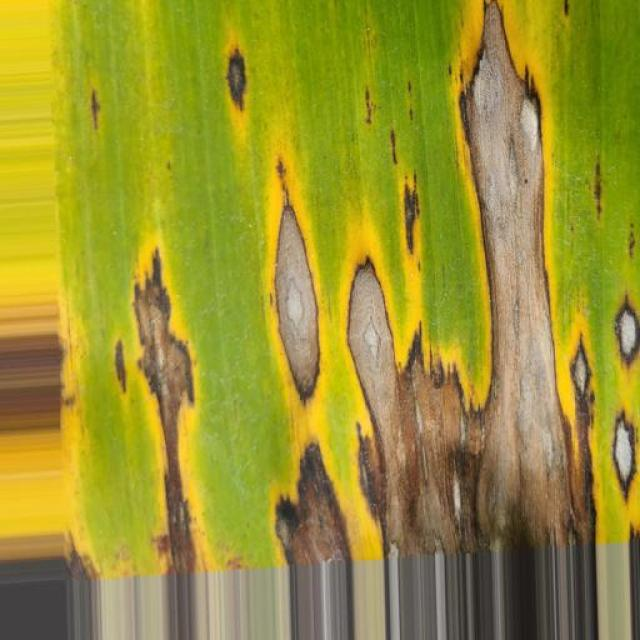Early_rust: (77, 23, 640, 589)
